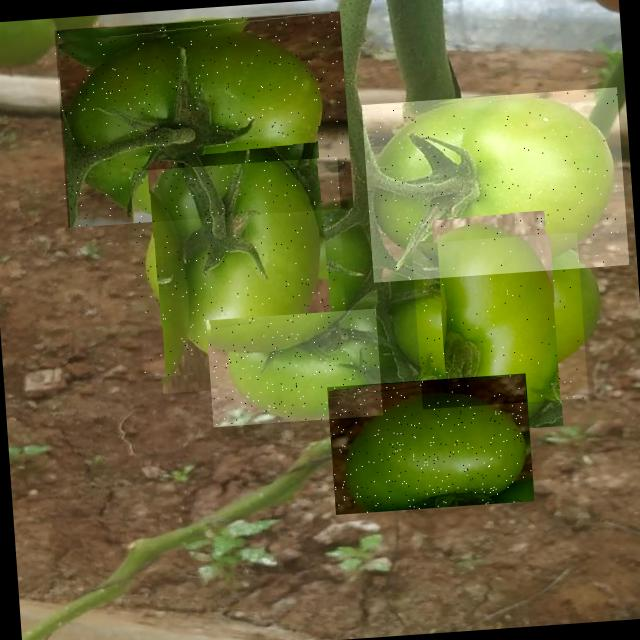Unripe Tomato: (51, 9, 352, 228), (361, 87, 628, 282), (129, 156, 349, 378), (411, 232, 588, 409), (327, 372, 534, 514), (205, 308, 382, 427)
